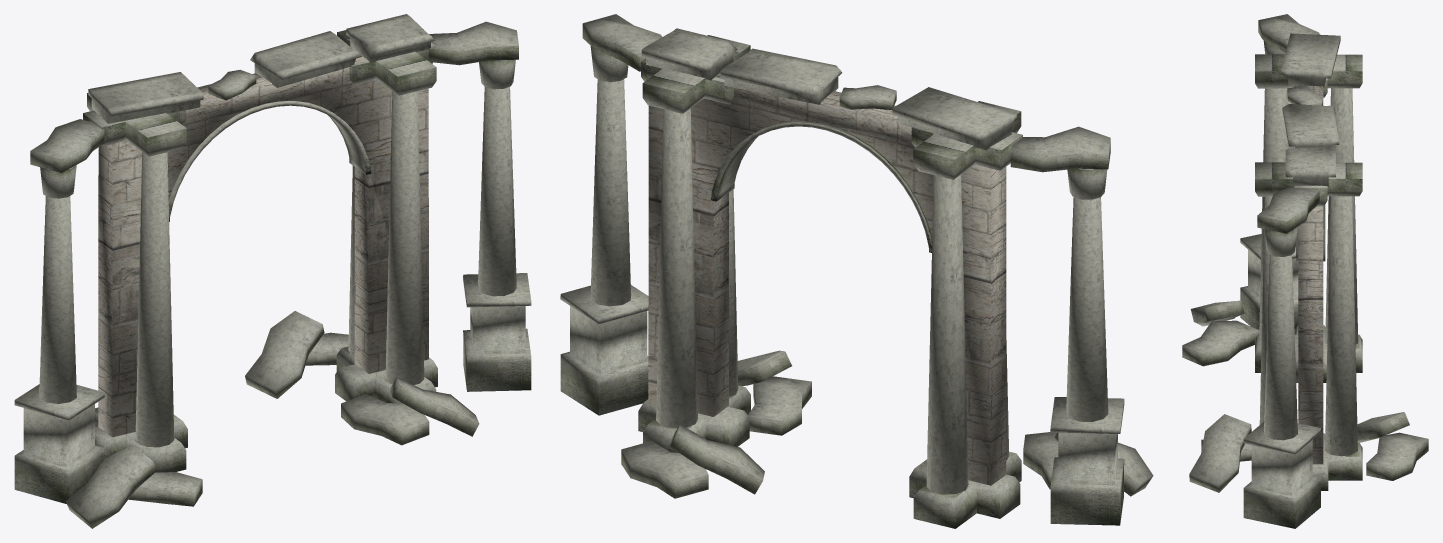
File: Ruin_Arch.glb
3 renders of one model, left to right at view 1: azimuth 30°, elevation 25°; view 2: azimuth 150°, elevation 25°; view 3: azimuth 270°, elevation 25°, orthographic. The views are drawn at different scales.
Parts seen in each view (by area): view 1: geom-RuinArchOne200; view 2: geom-RuinArchOne200; view 3: geom-RuinArchOne200.
Part boxes in pixels (x1=…): geom-RuinArchOne200: x1=14, y1=14, x2=531, y2=528; geom-RuinArchOne200: x1=560, y1=14, x2=1153, y2=528; geom-RuinArchOne200: x1=1182, y1=14, x2=1428, y2=528.
Bounding box in the file's own units: 7.2 × 4.87 × 3.37.
3 materials, 3 textured.
